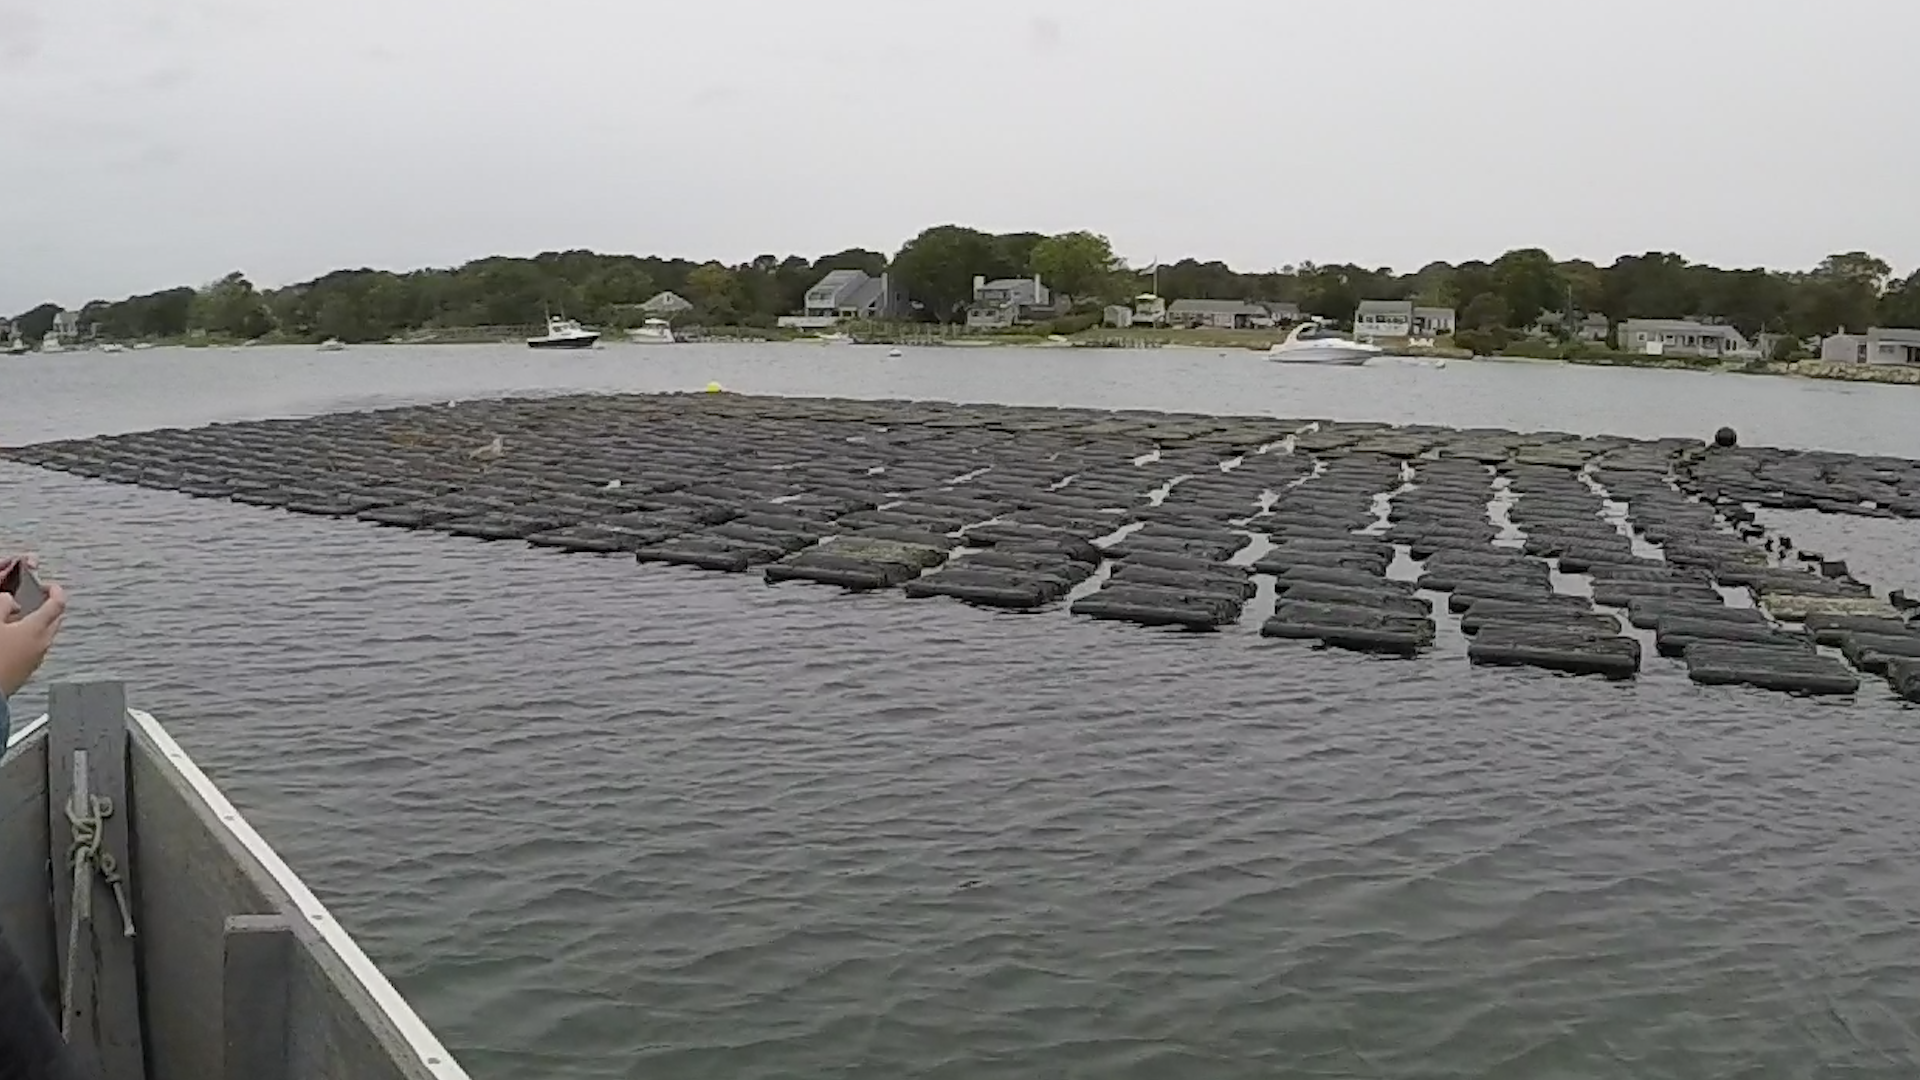bag: (1460, 622, 1644, 680), (1257, 599, 1436, 654), (1673, 645, 1855, 695), (1073, 584, 1236, 632)
